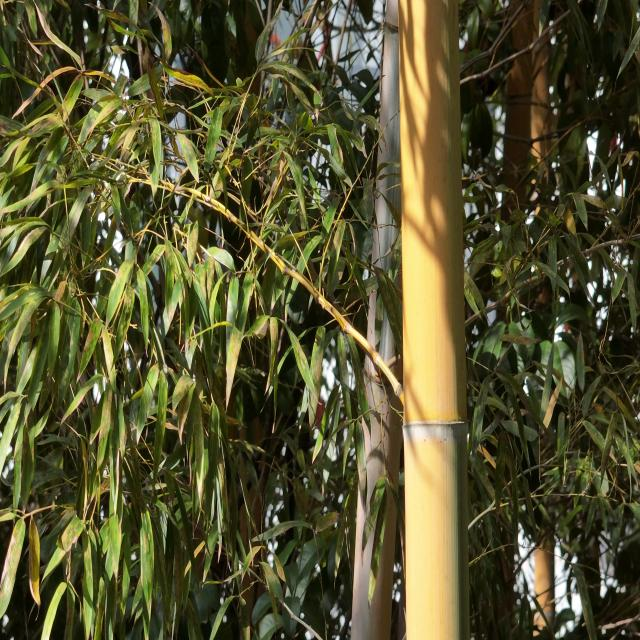Bamboo-shoots: (400, 0, 470, 640)
